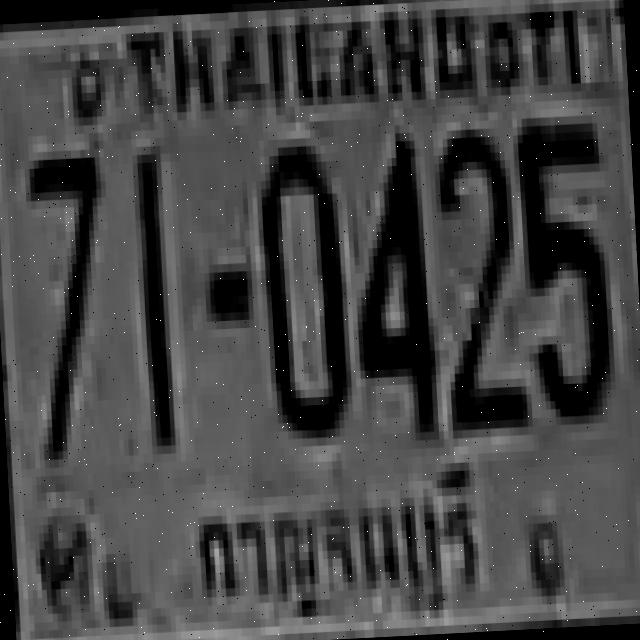0: (254, 137, 349, 432)
1: (132, 146, 171, 446)
2: (432, 124, 524, 426)
4: (350, 130, 436, 433)
5: (515, 118, 615, 422)
7: (24, 149, 110, 460)
Kanchanaburi: (189, 463, 488, 639)
